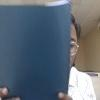notebook: (0, 0, 72, 99)
